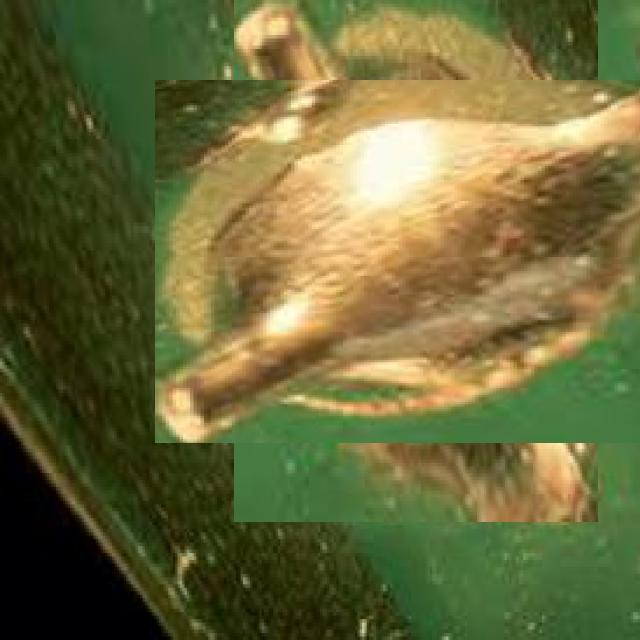slug: (194, 40, 638, 482)
